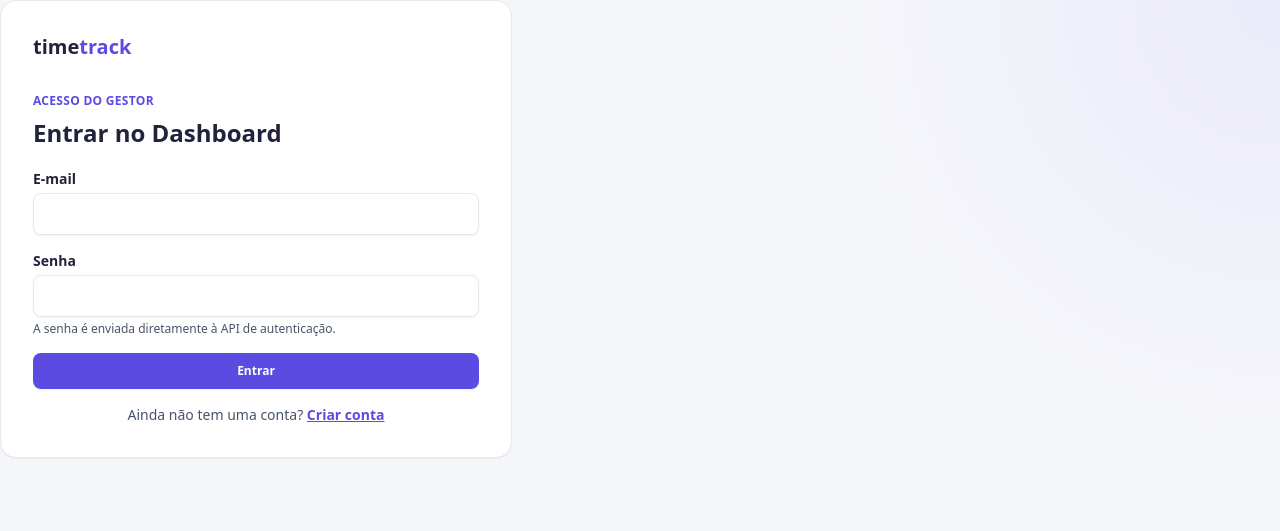
Test: AuthPage › maps invalid credentials and network failures to safe messages
Type "gestor@empresa.com" into the field labelled "E-mail". click: (256, 214)
box: [33,193,479,235]
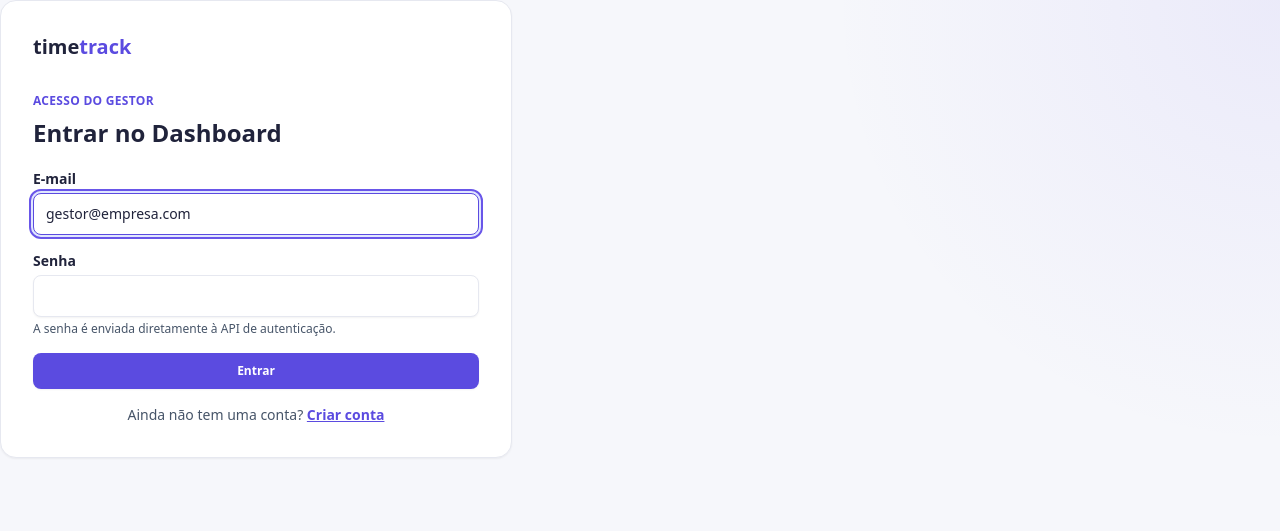
Type "SenhaSegura123!" into the password field labelled "Senha". click: (256, 296)
box: [33,275,479,317]
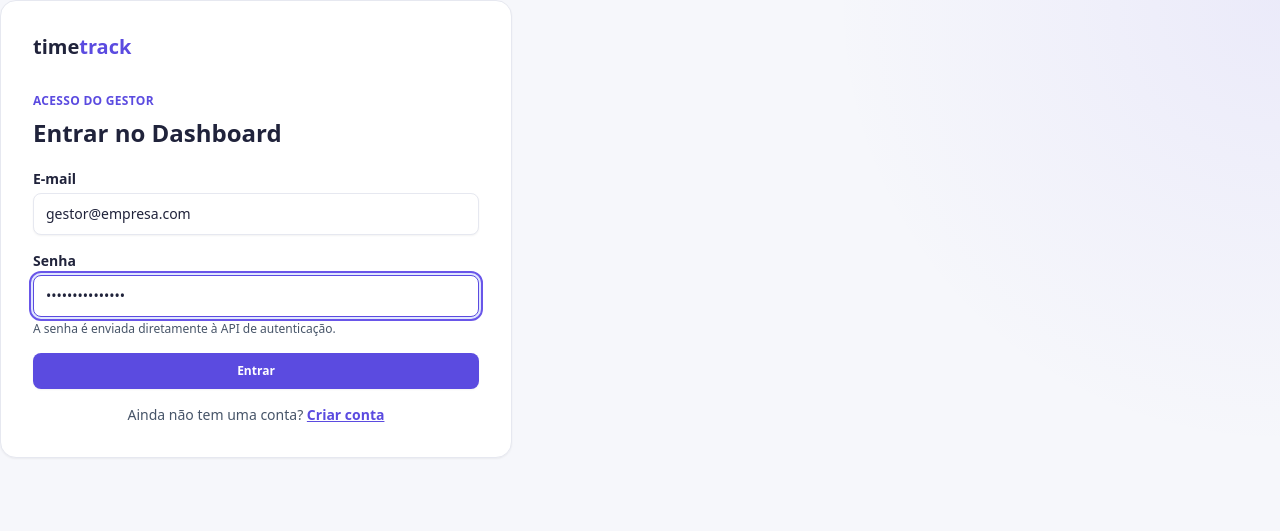
Click the button "Entrar". click: (256, 371)
box: [33,353,479,389]
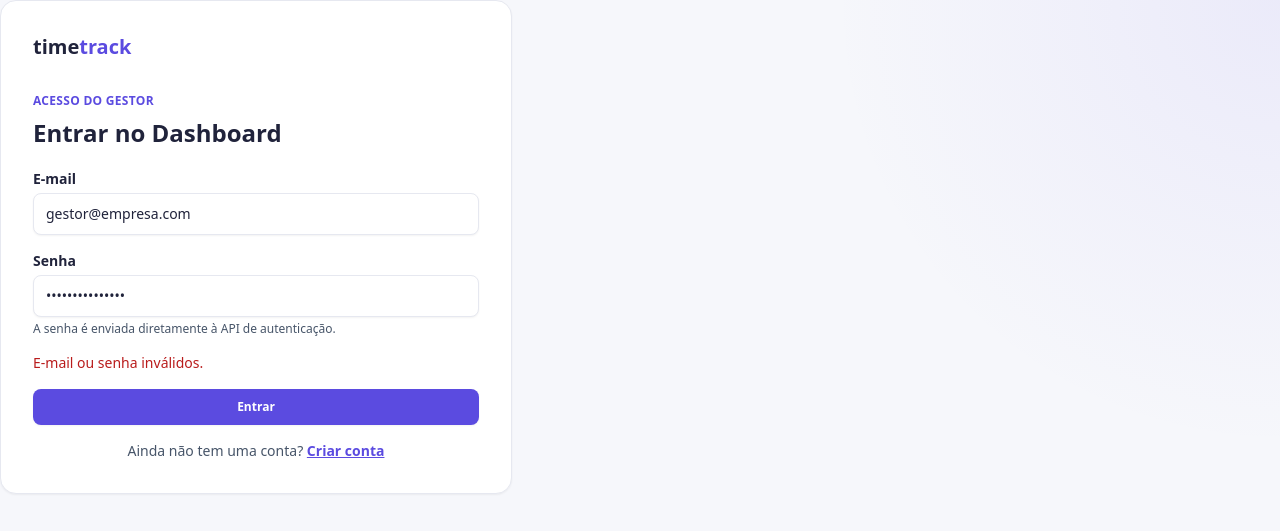
expect the message shows "E-mail ou senha inválidos": met, box [33,353,203,372]
Click the button "Entrar". click: (256, 407)
box: [33,389,479,425]
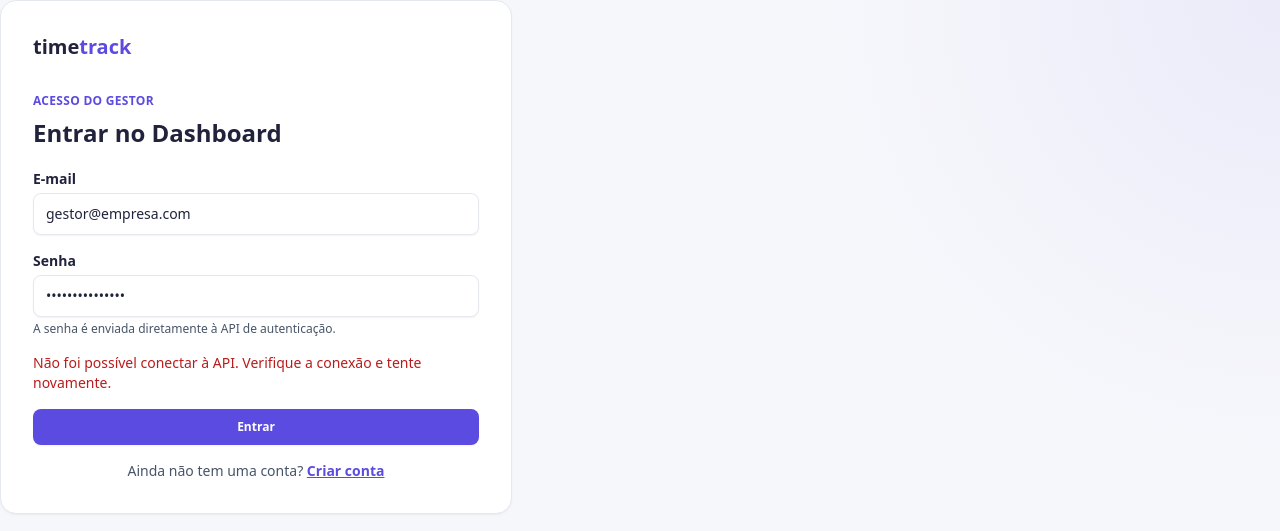
expect the message shows "Não foi possível conectar à API": met, box [33,353,421,392]
